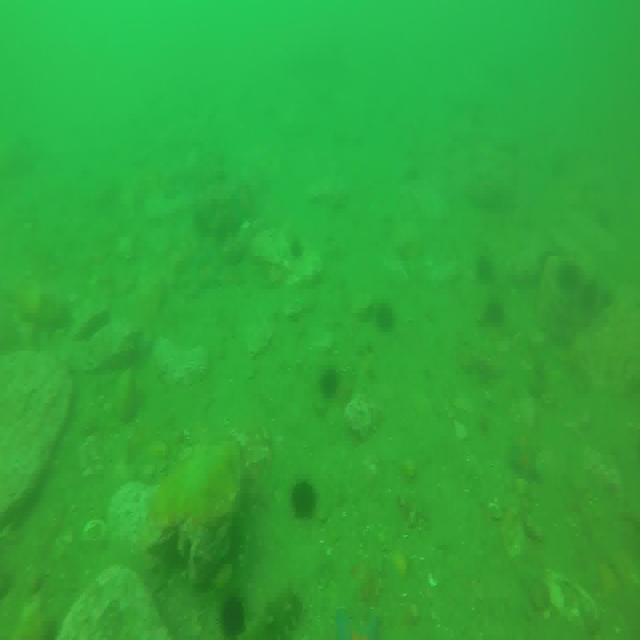echinus: (292, 482, 318, 518), (321, 366, 344, 403), (222, 596, 244, 634), (559, 262, 584, 294), (484, 296, 505, 328), (580, 278, 598, 310), (378, 301, 394, 333), (475, 255, 492, 281)
holothurian: (240, 581, 304, 640)
starfish: (339, 602, 383, 640), (508, 438, 542, 483)
